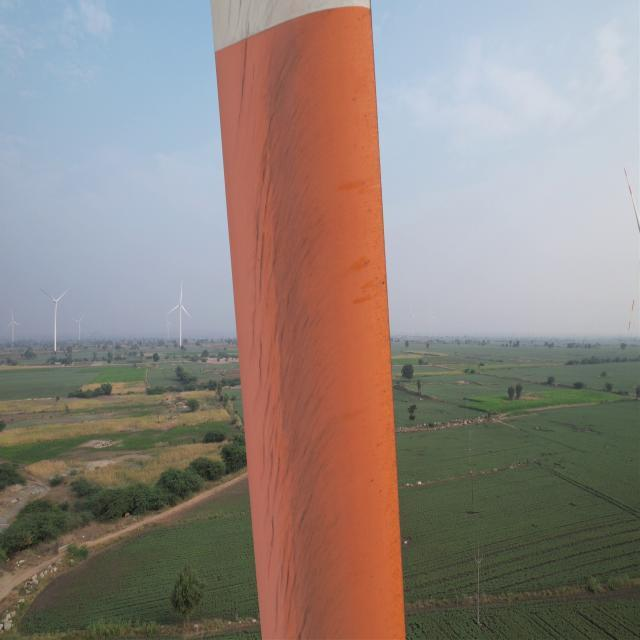Dirt: (243, 0, 347, 640)
